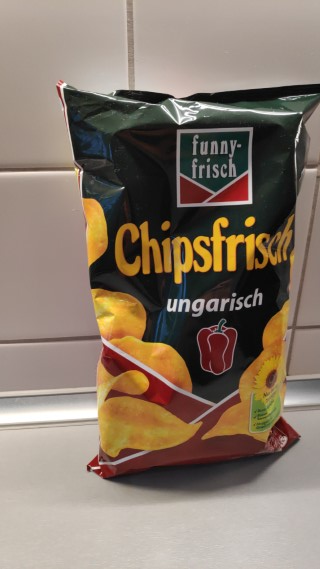chipsfrisch: (56, 79, 320, 477)
